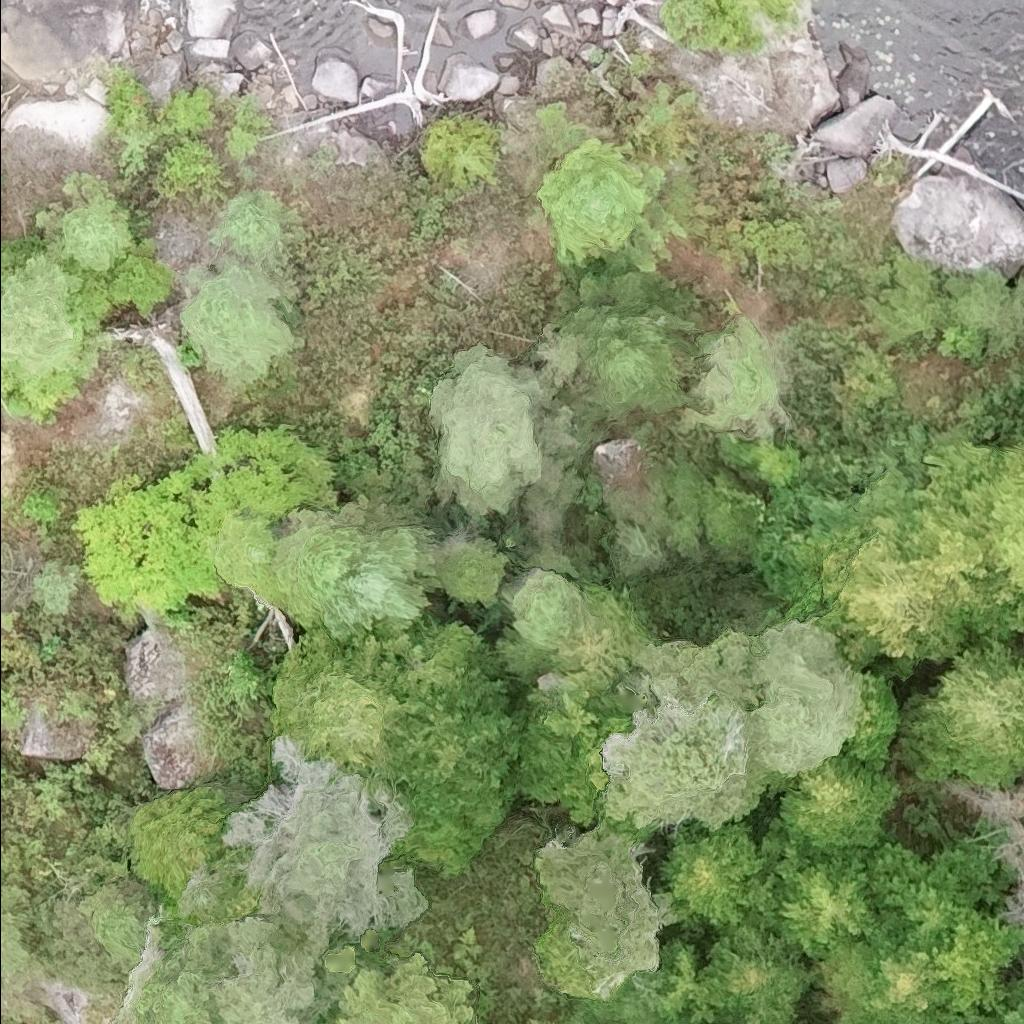crown: (272, 617, 518, 868), (220, 736, 421, 959), (804, 481, 983, 675), (601, 632, 770, 832), (110, 915, 356, 1023), (535, 823, 680, 996), (554, 253, 697, 426), (425, 342, 562, 519), (920, 436, 1023, 633), (899, 628, 1023, 787), (743, 813, 878, 959), (743, 618, 861, 778), (316, 502, 445, 642), (178, 255, 310, 389), (535, 134, 660, 267), (820, 908, 962, 1023), (249, 493, 370, 627), (674, 309, 793, 438), (867, 836, 999, 947), (778, 750, 902, 851), (698, 918, 817, 1023), (659, 819, 767, 933), (333, 943, 480, 1023), (123, 787, 233, 889), (0, 249, 85, 379), (55, 171, 134, 274), (209, 188, 308, 270), (506, 565, 584, 651), (204, 508, 274, 589), (843, 669, 897, 773), (422, 115, 500, 185), (436, 538, 510, 607), (716, 0, 793, 35), (967, 977, 1023, 1023), (1015, 601, 1023, 630)
